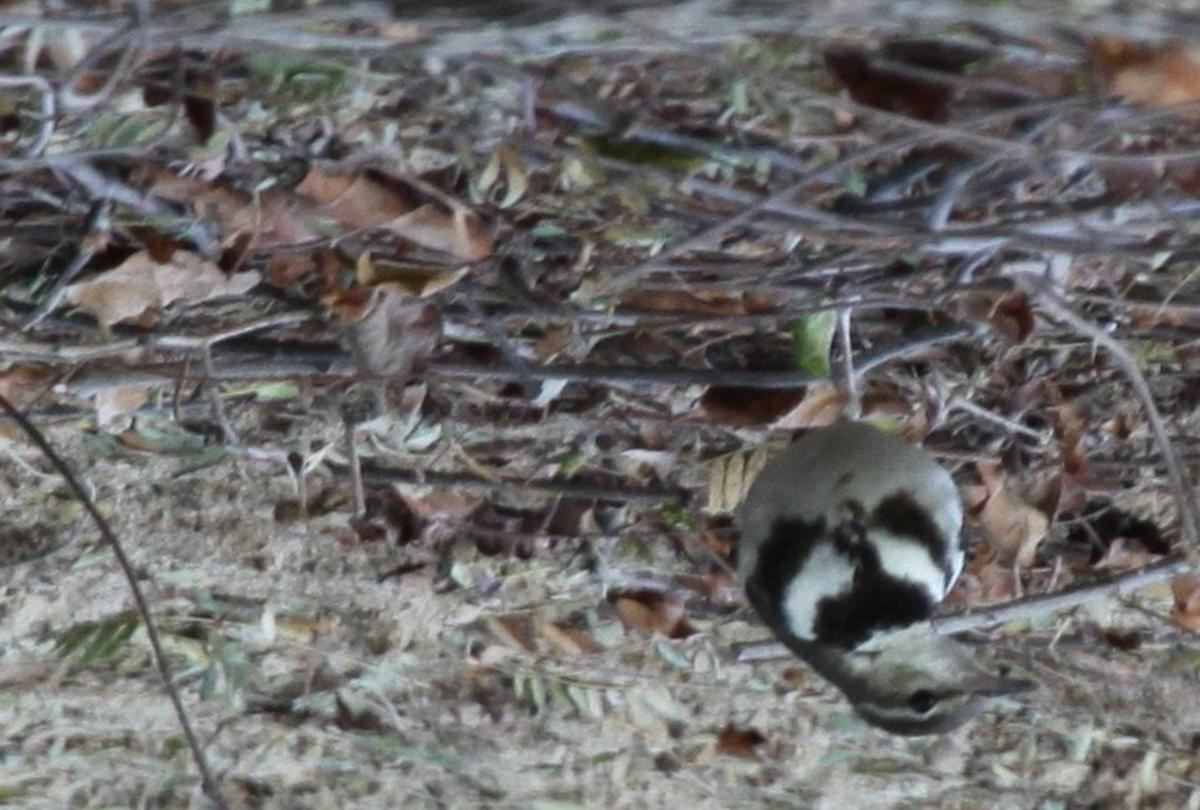wagtail: (661, 332, 1065, 743)
